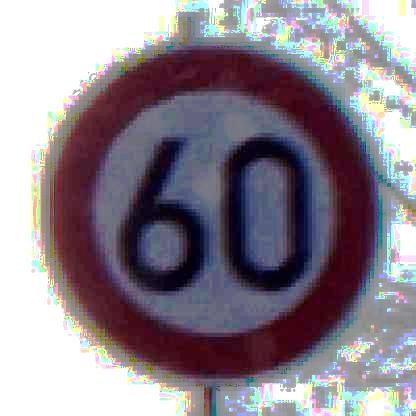Speed Limit -60-: (34, 33, 387, 393)
